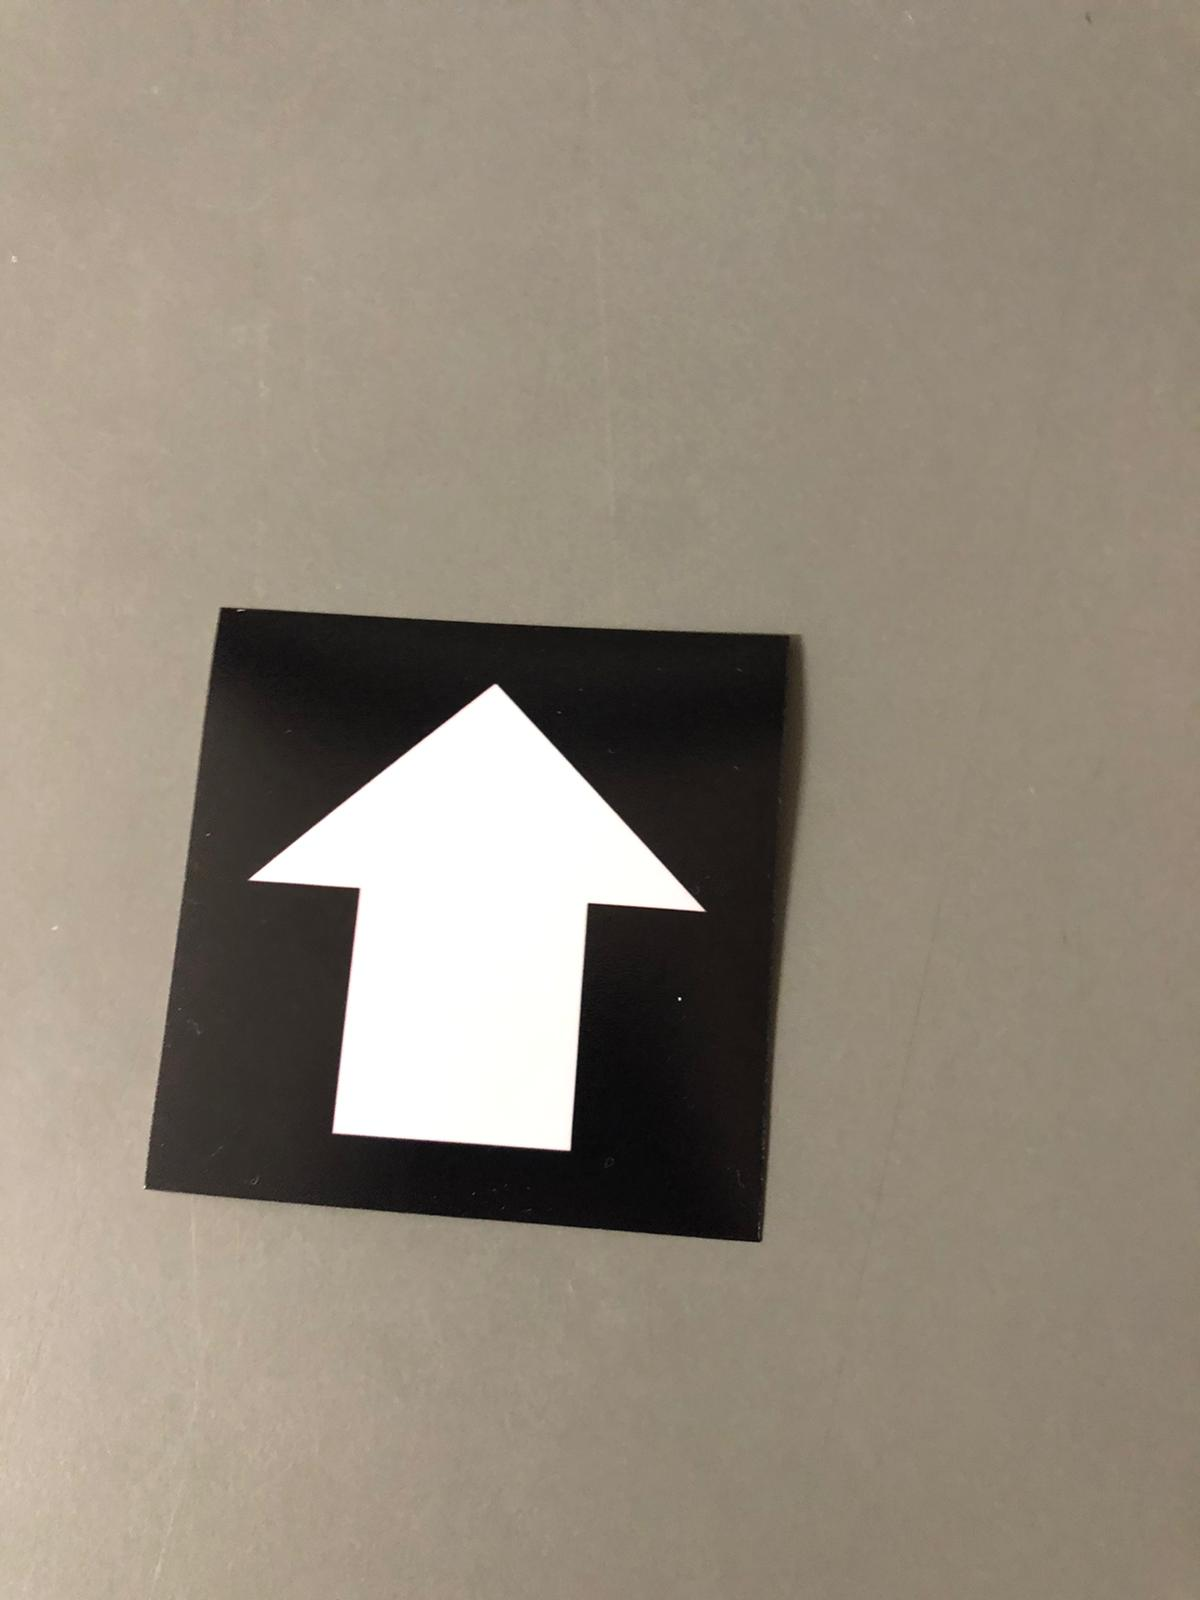Top Arrow: (221, 646, 727, 1204)
